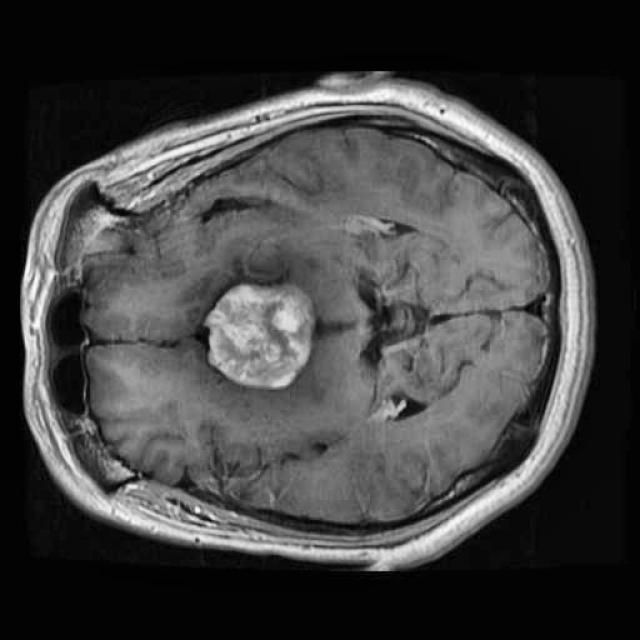Tumor: (195, 269, 325, 399)
